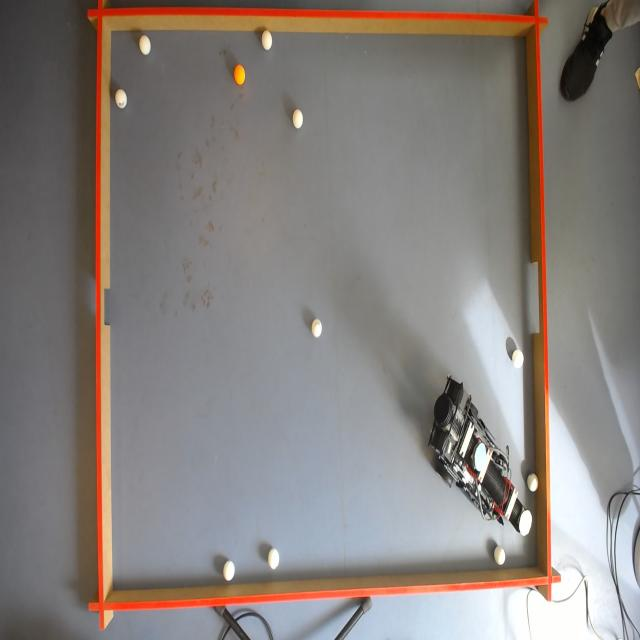orange: (232, 66, 247, 85)
robot: (429, 374, 531, 536)
robot-front: (516, 501, 536, 541)
robot-rear: (470, 434, 490, 478)
white: (266, 547, 280, 572), (222, 560, 236, 584), (511, 346, 525, 370), (260, 29, 274, 52), (494, 545, 508, 568), (137, 36, 151, 58), (115, 87, 127, 110), (292, 111, 305, 131), (311, 320, 323, 340), (528, 474, 540, 492)
